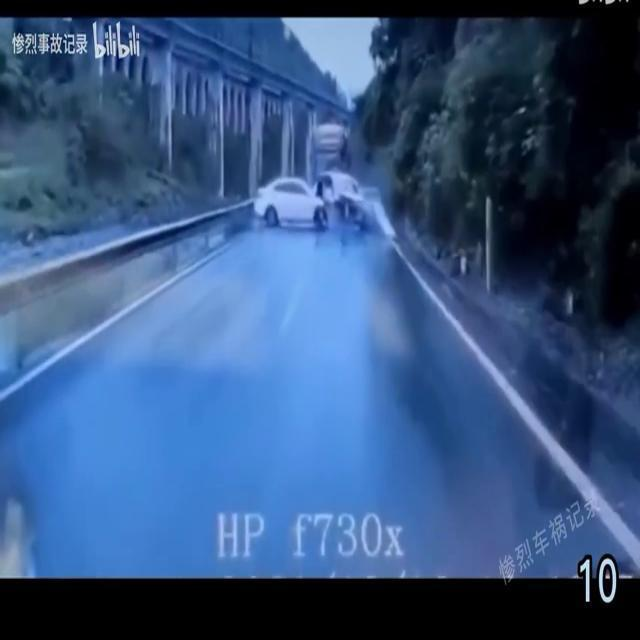accident: (254, 173, 380, 229)
